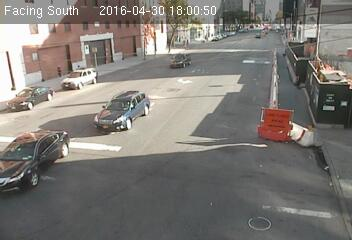neg: (284, 92, 308, 123), (308, 142, 329, 171), (65, 67, 82, 90), (255, 22, 271, 43), (170, 47, 184, 66), (87, 111, 101, 129)
